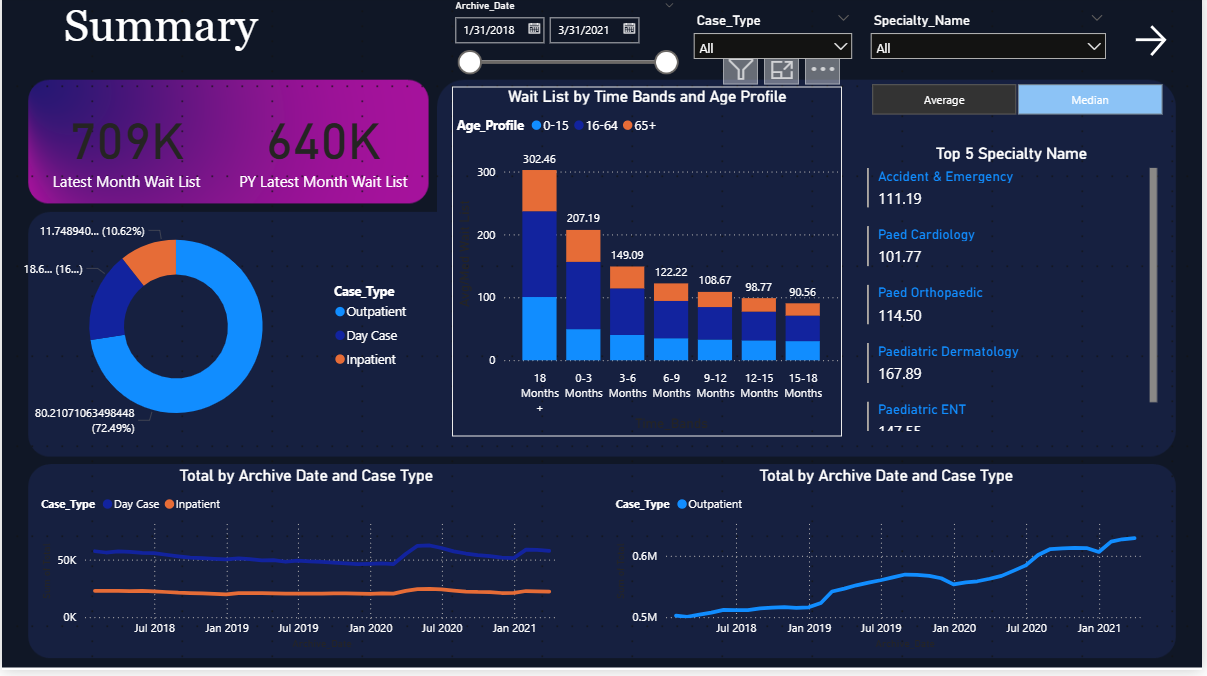

This screenshot's page, from the dashboard's own definition file:
{"tool":"powerbi","page":{"name":"Summary","canvas":[1280,720],"ordinal":0},"visuals":[{"type":"card","fields":{"Values":["All_Data.Latest Month Wait List"]},"box":[36.6,98.8,191.5,120.7],"z":0},{"type":"card","fields":{"Values":["All_Data.PY Latest Month Wait List"]},"box":[240.2,98.8,204.9,120.7],"z":1000},{"type":"slicer","fields":{"Values":["Calculation Method.Calc Method"]},"box":[902,88,359,46],"z":2000},{"type":"donutChart","fields":{"Category":["All_Data.Case_Type"],"Y":["All_Data.Avg/Med Wait List"]},"box":[10.6,219.1,434,268.1],"z":3000},{"type":"columnChart","title":"Wait List by Time Bands and Age Profile","fields":{"Y":["All_Data.Avg/Med Wait List"],"Category":["All_Data.Time_Bands"],"Series":["All_Data.Age_Profile"]},"box":[480,98.3,416.7,371.7],"z":4000},{"type":"multiRowCard","title":"Top 5 Specialty Name","fields":{"Values":["All_Data.Specialty_Name","All_Data.Avg/Med Wait List"]},"box":[916.7,158.3,320,311.7],"z":5000},{"type":"lineChart","title":"Total by Archive Date and Case Type","fields":{"Category":["All_Data.Archive_Date"],"Y":["Sum(All_Data.Total)"],"Series":["All_Data.Case_Type"]},"box":[36.6,502.4,575.6,200],"z":6000},{"type":"lineChart","title":"Total by Archive Date and Case Type","fields":{"Category":["All_Data.Archive_Date"],"Y":["Sum(All_Data.Total)"],"Series":["All_Data.Case_Type"]},"box":[650,502.9,587.1,200],"z":7000},{"type":"slicer","fields":{"Values":["All_Data.Archive_Date"]},"box":[470.4,0,259.2,88],"z":8000},{"type":"slicer","fields":{"Values":["All_Data.Case_Type"]},"box":[728,12.8,188.8,57.6],"z":9000},{"type":"slicer","fields":{"Values":["All_Data.Specialty_Name"]},"box":[916.8,12.8,270.4,57.6],"z":10000},{"type":"textbox","box":[60,0,295.7,88.6],"z":11000},{"type":"actionButton","box":[1203.2,27.2,76.8,43.2],"z":11001}]}

Visuals, with their boxes in screenshot pixels (x1, y1, x2, y2), scaled from the page's 1280x720 canvas onto the 1207x676 screenshot:
card - All_Data.Latest Month Wait List: {"x1": 35, "y1": 93, "x2": 215, "y2": 206}
card - All_Data.PY Latest Month Wait List: {"x1": 227, "y1": 93, "x2": 420, "y2": 206}
slicer - Calculation Method.Calc Method: {"x1": 851, "y1": 83, "x2": 1189, "y2": 126}
donutChart - All_Data.Case_Type x All_Data.Avg/Med Wait List: {"x1": 10, "y1": 206, "x2": 419, "y2": 457}
"Wait List by Time Bands and Age Profile" columnChart: {"x1": 453, "y1": 92, "x2": 846, "y2": 441}
"Top 5 Specialty Name" multiRowCard: {"x1": 864, "y1": 149, "x2": 1166, "y2": 441}
"Total by Archive Date and Case Type" lineChart: {"x1": 35, "y1": 472, "x2": 577, "y2": 659}
"Total by Archive Date and Case Type" lineChart: {"x1": 613, "y1": 472, "x2": 1167, "y2": 660}
slicer - All_Data.Archive_Date: {"x1": 444, "y1": 0, "x2": 688, "y2": 83}
slicer - All_Data.Case_Type: {"x1": 686, "y1": 12, "x2": 865, "y2": 66}
slicer - All_Data.Specialty_Name: {"x1": 865, "y1": 12, "x2": 1119, "y2": 66}
textbox: {"x1": 57, "y1": 0, "x2": 335, "y2": 83}
actionButton: {"x1": 1135, "y1": 26, "x2": 1206, "y2": 66}
